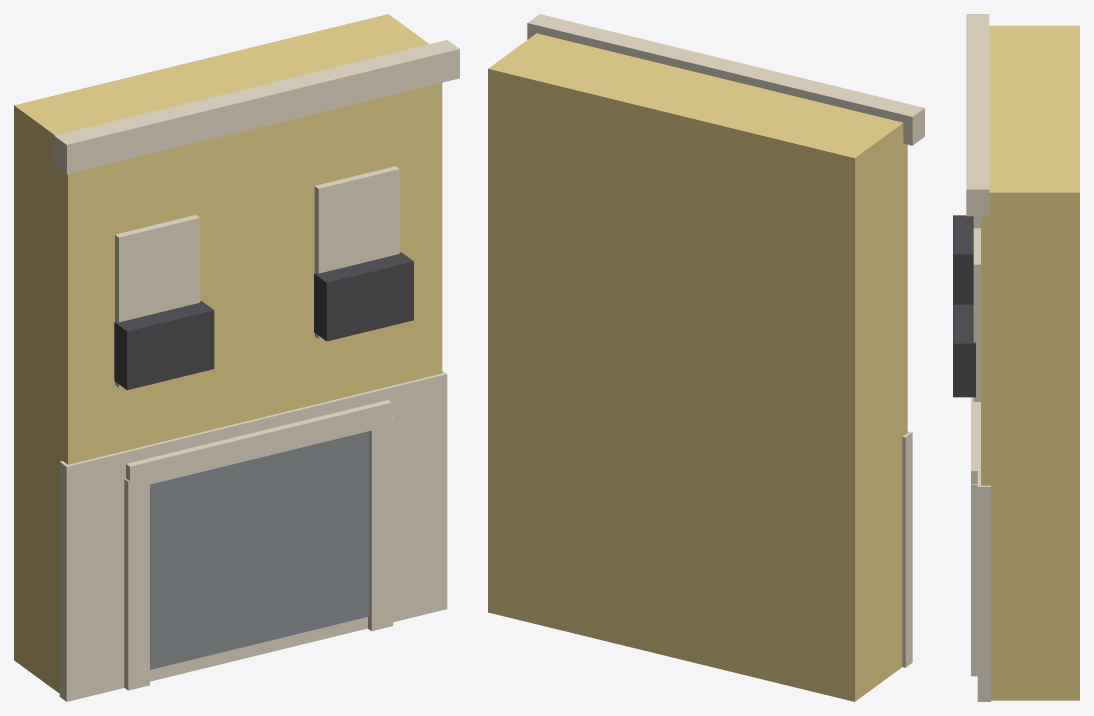
The model's file is SM_Fachada_Cantera_A.fbx.
3 views of the same model, side by side, from view 1: azimuth 30°, elevation 25°; view 2: azimuth 150°, elevation 25°; view 3: azimuth 270°, elevation 25° (orthographic). The views are drawn at different scales.
Parts seen in each view (by area): view 1: SM_Fachada_Cantera_A; view 2: SM_Fachada_Cantera_A; view 3: SM_Fachada_Cantera_A.
Part boxes in pixels (x1,y1,x2,y2): SM_Fachada_Cantera_A: [14, 14, 459, 701]; SM_Fachada_Cantera_A: [488, 14, 924, 701]; SM_Fachada_Cantera_A: [953, 14, 1079, 701].
Size of the model in its own units: 6.3 by 8.63 by 1.93.
